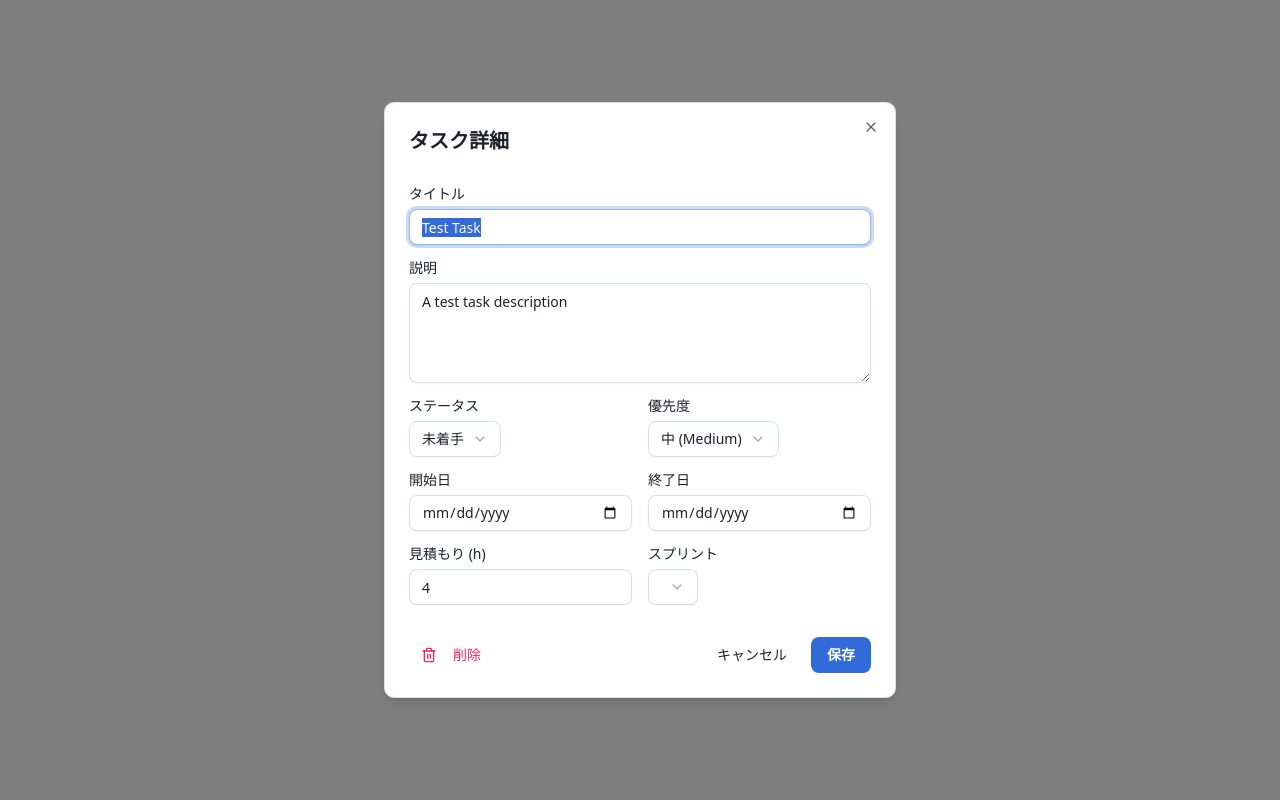
Test: TaskDetailDialog › disables save button when title is empty
Clear the field labelled "タイトル" at (640, 227), box [409,209,871,245]
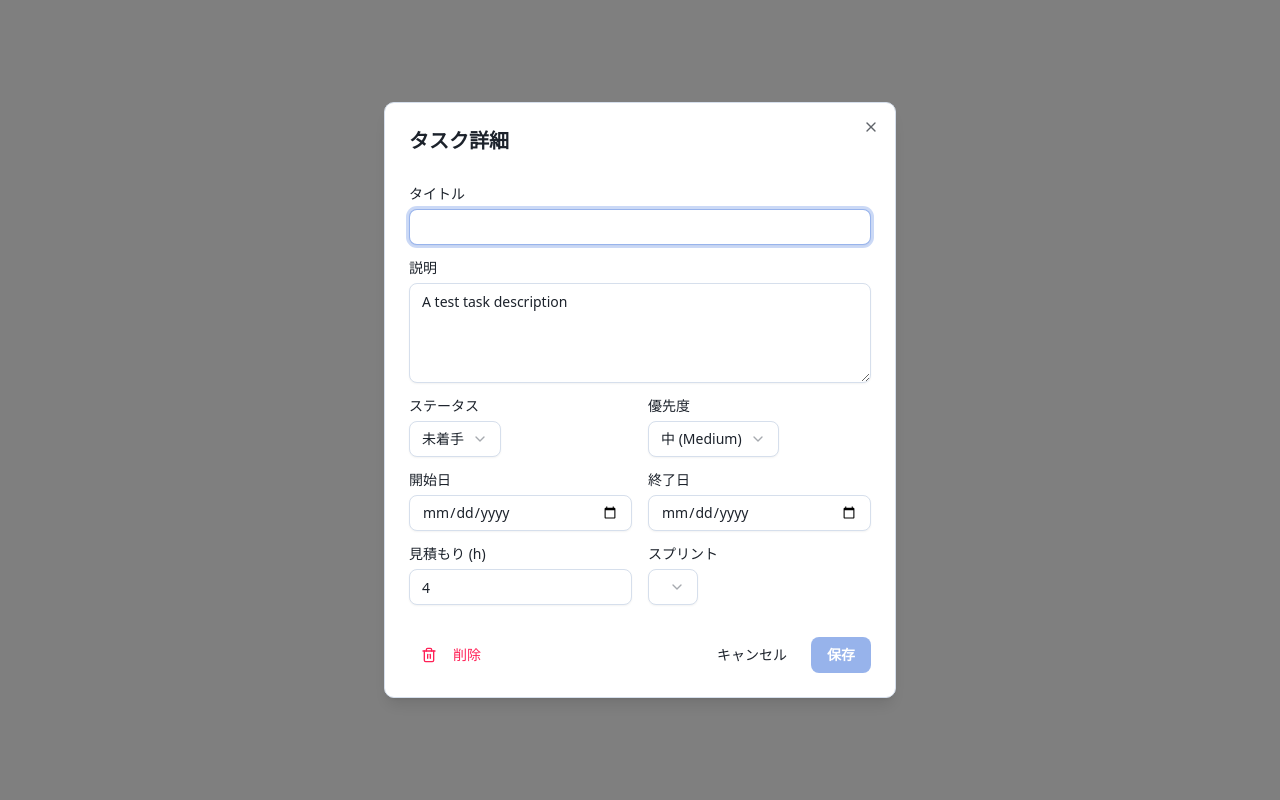
Expected: the button "保存" is disabled, [811,637,871,673]
